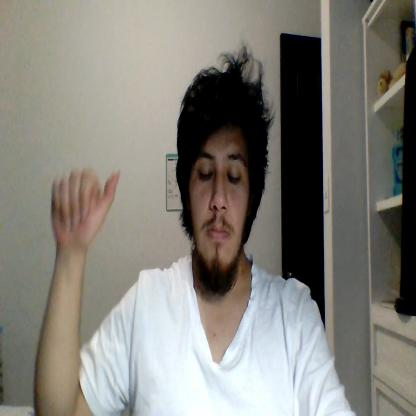A: (51, 167, 120, 249)
